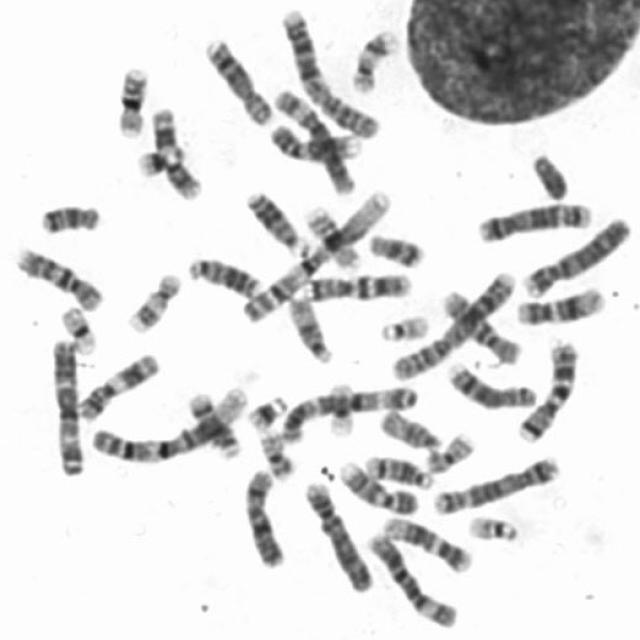A1: (238, 184, 396, 324), (86, 380, 249, 464)
A2: (386, 264, 520, 382), (276, 1, 382, 141)
A3: (274, 379, 420, 445), (45, 332, 87, 478)
B4: (518, 210, 634, 298), (300, 475, 376, 594)
B5: (430, 451, 563, 516), (472, 196, 595, 244)
C10: (8, 240, 108, 313), (438, 285, 526, 366)
C11: (73, 348, 162, 423), (146, 102, 205, 202)
C12: (379, 512, 474, 574), (512, 281, 612, 327)
C6: (362, 526, 462, 630), (269, 84, 359, 196)
C7: (512, 333, 582, 444), (294, 265, 414, 303)
C8: (200, 32, 277, 128), (443, 358, 538, 410)
C9: (332, 456, 421, 516), (262, 119, 366, 165)
D13: (242, 185, 308, 256), (182, 250, 264, 299)
D14: (182, 389, 242, 461), (361, 448, 436, 491)
D15: (284, 291, 336, 366), (375, 404, 443, 452)
E16: (297, 199, 364, 273), (110, 60, 152, 140)
E17: (120, 265, 184, 336), (344, 24, 400, 95)
E18: (363, 227, 427, 269), (36, 198, 104, 236)
F19: (320, 376, 359, 440), (55, 300, 99, 356)
F20: (422, 429, 477, 475), (255, 424, 298, 481)
G21: (242, 388, 290, 431), (132, 144, 176, 178)
G22: (374, 308, 433, 343), (462, 509, 522, 543)
X: (238, 464, 288, 570)
Y: (525, 147, 571, 201)
